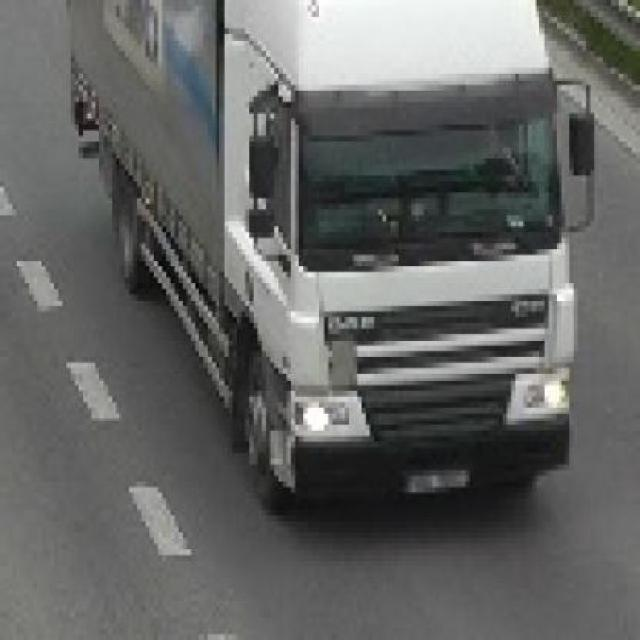truck: (72, 1, 596, 510)
